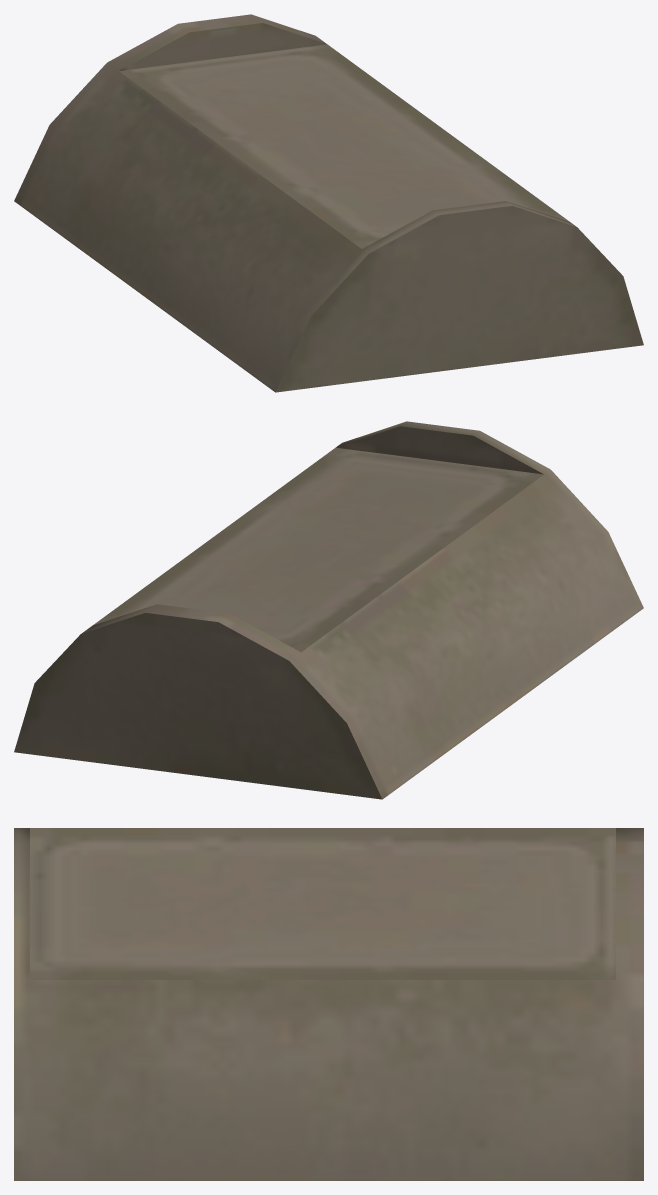
The model's file is Turret_01.glb.
3 renders of one model, top to bottom at view 1: azimuth 30°, elevation 25°; view 2: azimuth 150°, elevation 25°; view 3: azimuth 270°, elevation 25°, orthographic. The views are drawn at different scales.
Visible parts, largest first — view 1: set_0_group_0; view 2: set_0_group_0; view 3: set_0_group_0.
Boxes of the visible parts, x1=… form: set_0_group_0: x1=14, y1=14, x2=643, y2=392; set_0_group_0: x1=14, y1=421, x2=643, y2=799; set_0_group_0: x1=14, y1=828, x2=643, y2=1180.
Size of the model in its own units: 0.5708 by 0.2664 by 0.7015.
1 material, 1 textured.
